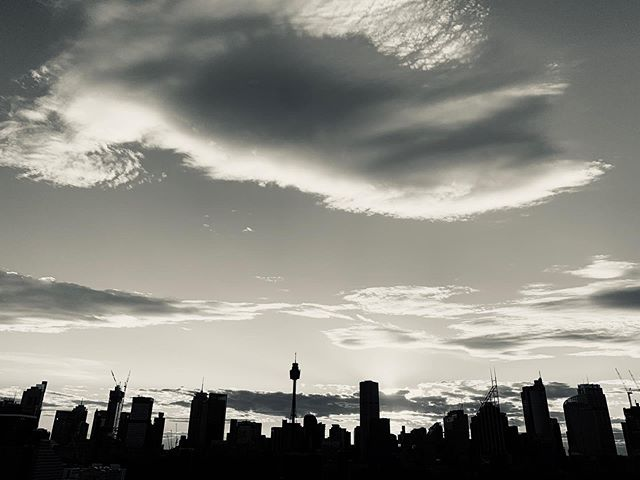building: (560, 378, 616, 460), (353, 370, 392, 457), (182, 386, 230, 451), (519, 376, 556, 454), (472, 396, 516, 445), (50, 401, 90, 452), (16, 379, 44, 440), (282, 352, 305, 426), (127, 390, 154, 448), (438, 404, 469, 445)
sky: (4, 1, 640, 373)
